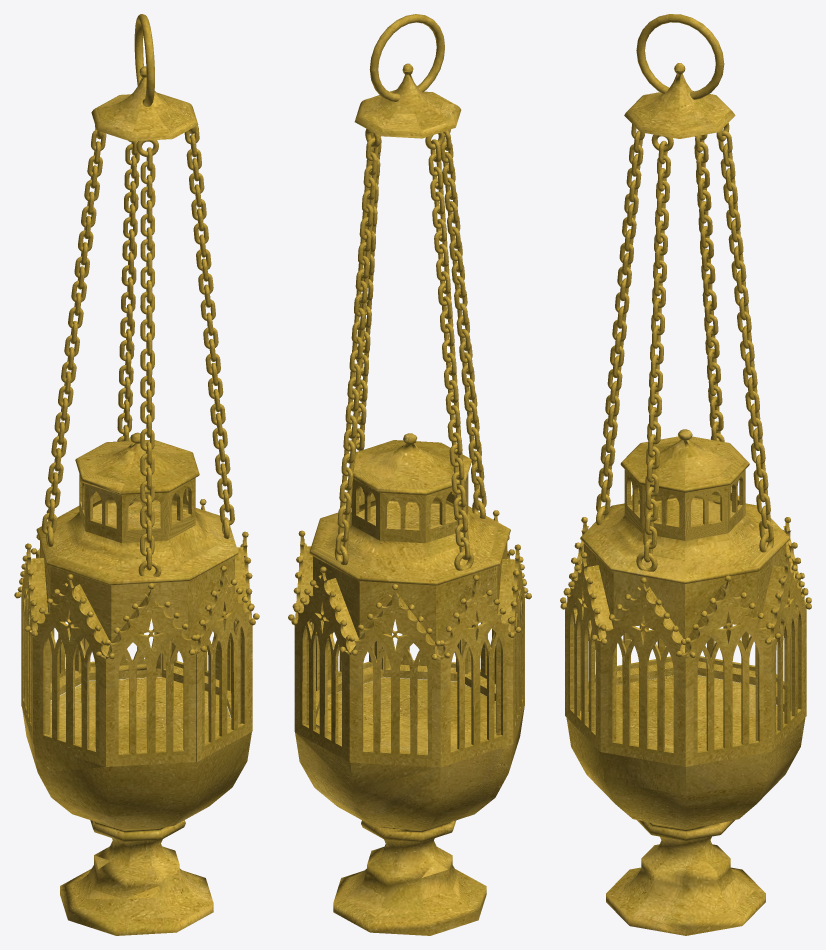
The model's file is INCENSARIO-IGLESIA.glb.
The picture shows the model from 3 angles, left to right: view 1: azimuth 30°, elevation 25°; view 2: azimuth 150°, elevation 25°; view 3: azimuth 270°, elevation 25°; orthographic projection.
Visible parts, largest first — view 1: SketchUp; view 2: SketchUp; view 3: SketchUp.
Part boxes in pixels (box(x1,y1,x2,y2)): SketchUp: box(14, 14, 259, 935); SketchUp: box(288, 14, 531, 935); SketchUp: box(560, 14, 811, 935).
Bounding box in the file's own units: 0.1863 × 0.729 × 0.1869.
3 materials, 1 textured.
